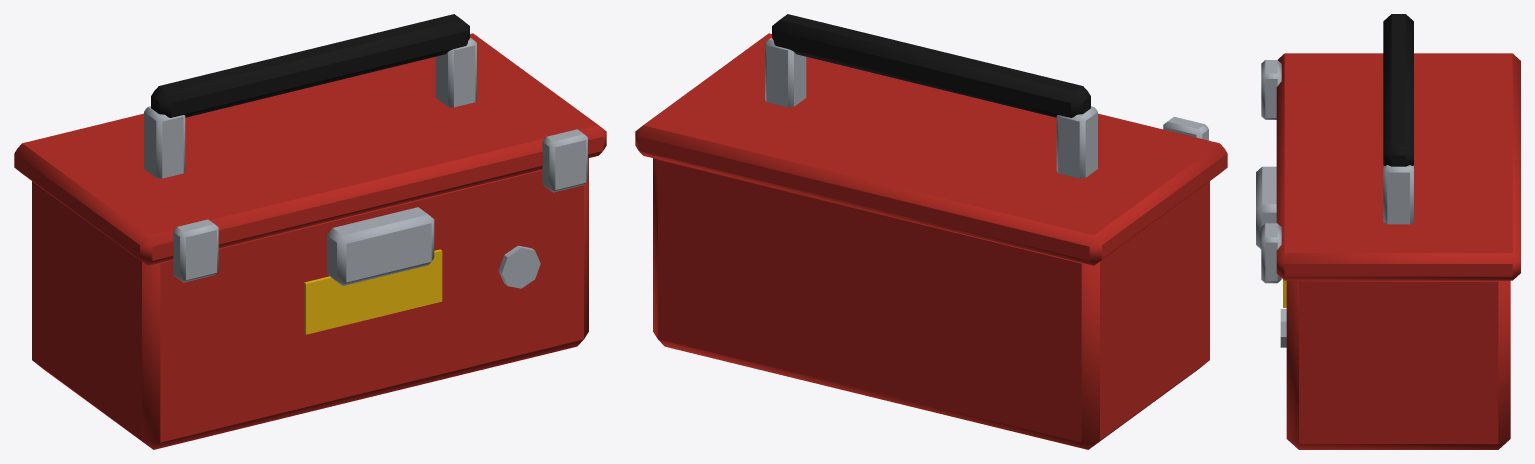
File: toolbox_tabletop_toolbox.glb
The picture shows the model from 3 angles, left to right: view 1: azimuth 30°, elevation 25°; view 2: azimuth 150°, elevation 25°; view 3: azimuth 270°, elevation 25°; orthographic projection. The views are drawn at different scales.
Parts seen in each view (by area): view 1: toolbox_tabletop_toolbox; view 2: toolbox_tabletop_toolbox; view 3: toolbox_tabletop_toolbox.
Boxes of the visible parts, box(x1,y1,x2,y2) form: toolbox_tabletop_toolbox: box(14, 14, 606, 449); toolbox_tabletop_toolbox: box(635, 14, 1227, 449); toolbox_tabletop_toolbox: box(1256, 14, 1520, 449).
Bounding box in the file's own units: 0.48 × 0.3 × 0.26.
